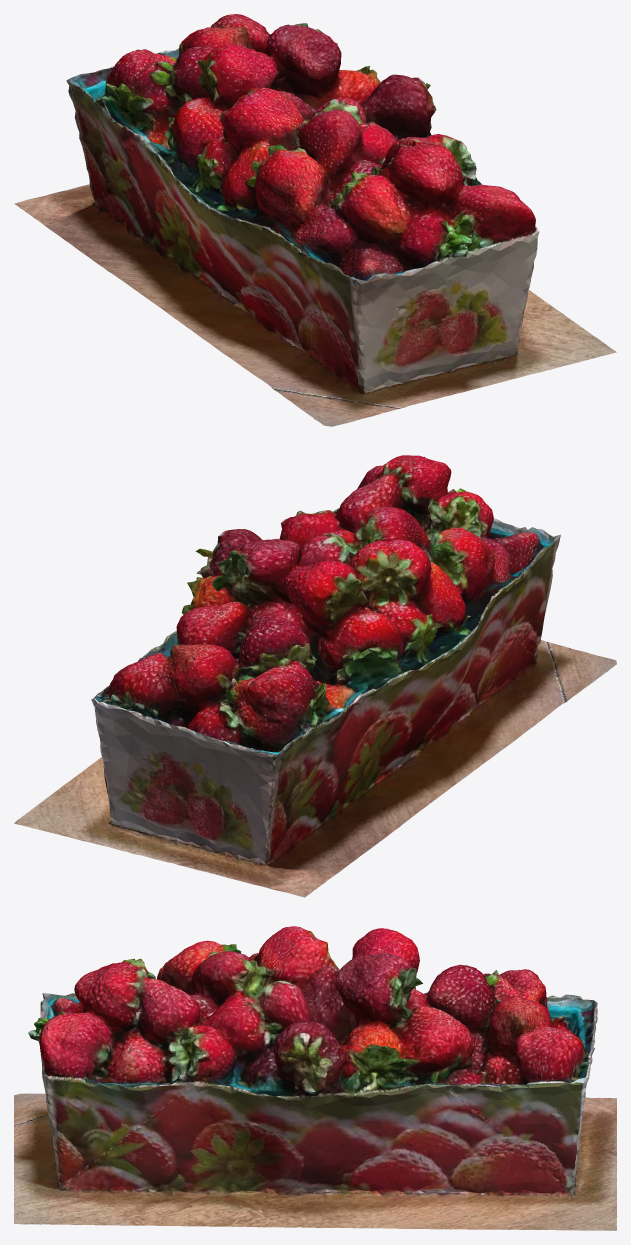
The picture shows the model from 3 angles, top to bottom: view 1: azimuth 30°, elevation 25°; view 2: azimuth 150°, elevation 25°; view 3: azimuth 270°, elevation 25°; orthographic projection. The views are drawn at different scales.
Parts seen in each view (by area): view 1: mesh_0; view 2: mesh_0; view 3: mesh_0.
Boxes of the visible parts, x1,y1,x2,y2 form: mesh_0: (14, 14, 616, 426); mesh_0: (14, 455, 616, 897); mesh_0: (14, 926, 616, 1230).
Size of the model in its own units: 0.1808 by 0.1344 by 0.3392.
1 material, 1 textured.
